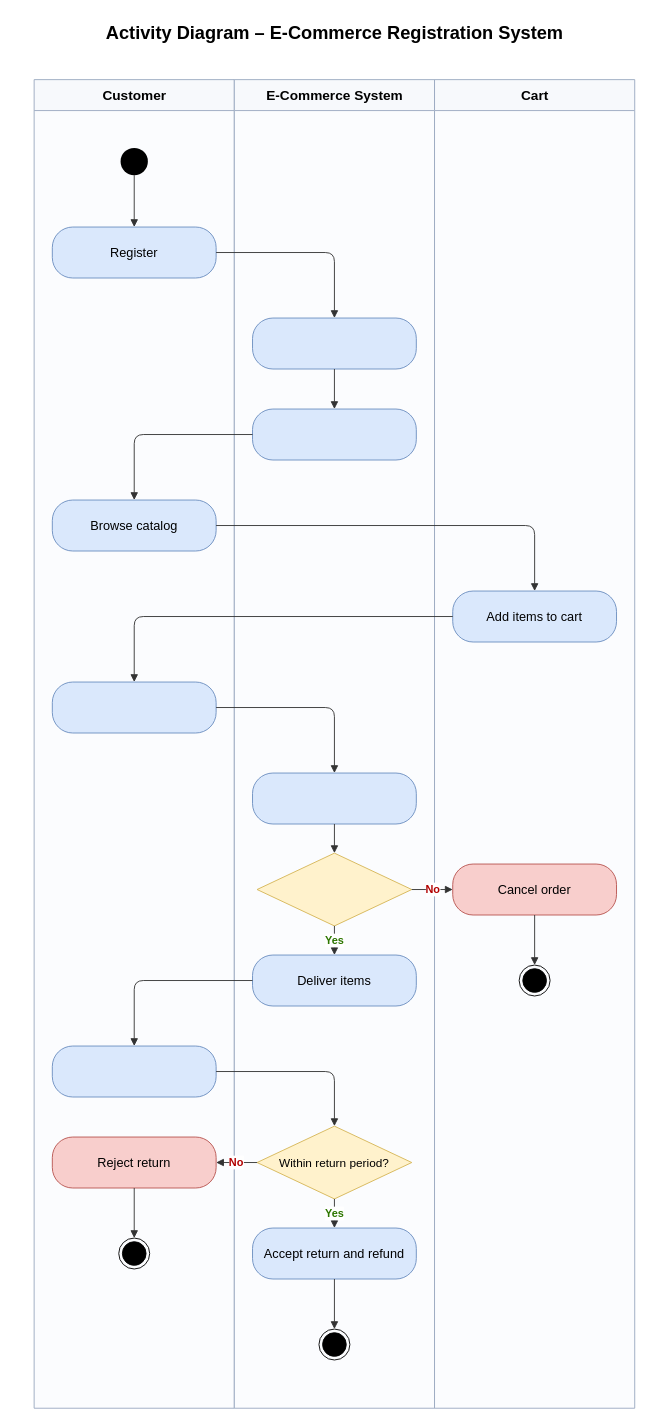
This 668x1424 diagram has some shape labels left out. Each missing label, with the centre of its shape:
Add customer: the point at 334,343
Checkout and pay: the point at 133,707
Payment successful?: the point at 334,889
Produce catalog: the point at 334,434
Receive items: the point at 133,1071
Verify payment: the point at 334,798
